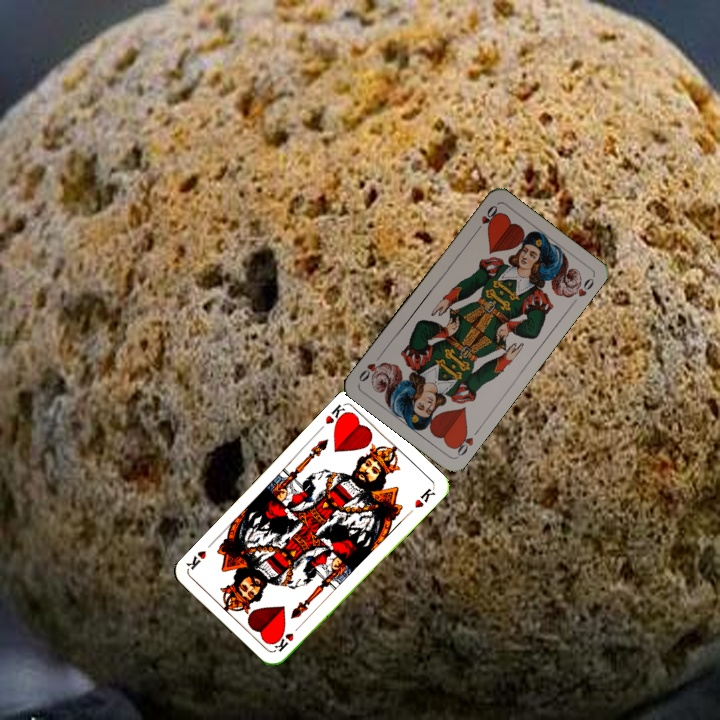HK: (270, 620, 304, 654), (321, 400, 351, 430)
HO: (449, 424, 483, 459), (471, 201, 500, 236)
